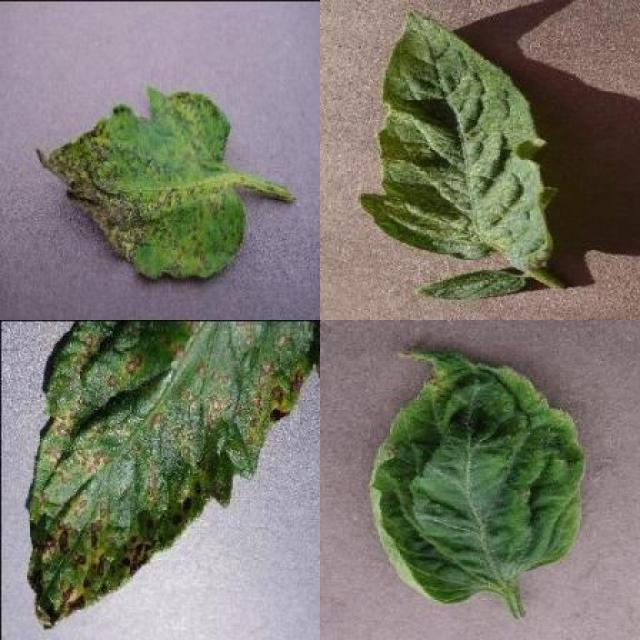Septoria: (25, 320, 319, 627), (36, 84, 244, 279)
Spider Mites: (358, 10, 555, 267)
Yellow Leaf Curl Virus: (371, 342, 586, 605)
